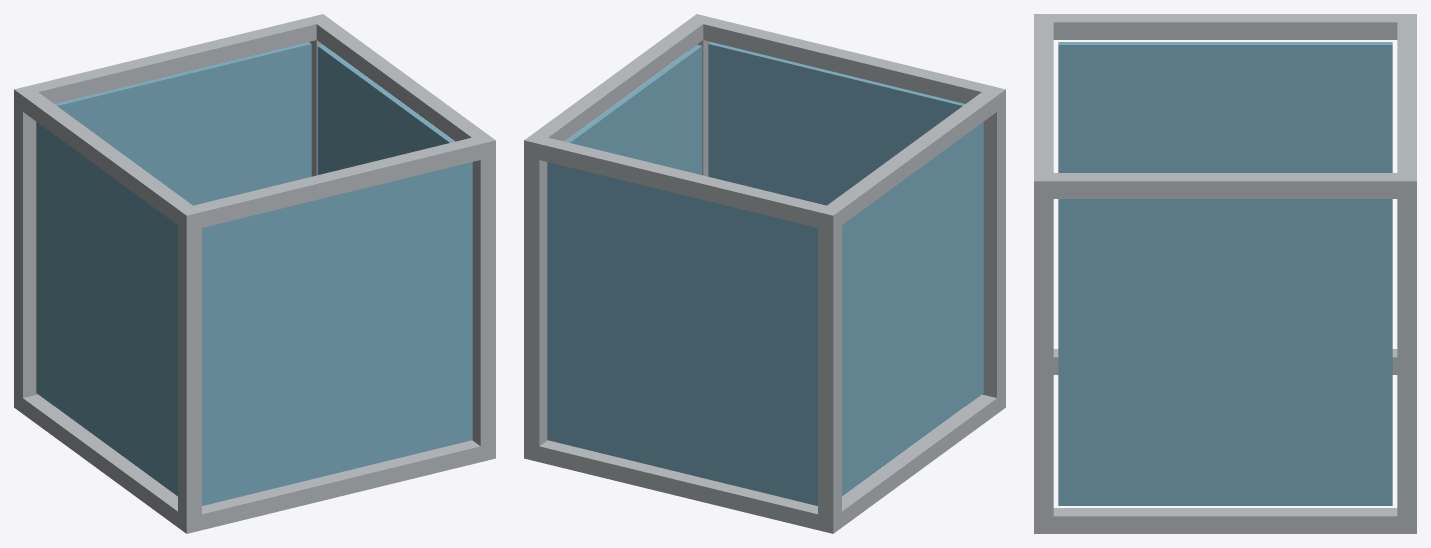
File: 47_L77_PrecisionMegasonicCleaningModule.glb
3 views of the same model, side by side, from view 1: azimuth 30°, elevation 25°; view 2: azimuth 150°, elevation 25°; view 3: azimuth 270°, elevation 25° (orthographic). The views are drawn at different scales.
Parts seen in each view (by area): view 1: PrecisionMegasonicCleaningModule_Node_0013, PrecisionMegasonicCleaningModule_Node_0014, PrecisionMegasonicCleaningModule_Node_0012, PrecisionMegasonicCleaningModule_Node_0015, PrecisionMegasonicCleaningModule_Node_0001, PrecisionMegasonicCleaningModule_Node_0009, PrecisionMegasonicCleaningModule_Node_0003, PrecisionMegasonicCleaningModule_Node_0008, PrecisionMegasonicCleaningModule_Node_0005, PrecisionMegasonicCleaningModule_Node_0000, PrecisionMegasonicCleaningModule_Node_0010, PrecisionMegasonicCleaningModule_Node_0006 (+2 smaller); view 2: PrecisionMegasonicCleaningModule_Node_0012, PrecisionMegasonicCleaningModule_Node_0014, PrecisionMegasonicCleaningModule_Node_0013, PrecisionMegasonicCleaningModule_Node_0015, PrecisionMegasonicCleaningModule_Node_0000, PrecisionMegasonicCleaningModule_Node_0008, PrecisionMegasonicCleaningModule_Node_0002, PrecisionMegasonicCleaningModule_Node_0004, PrecisionMegasonicCleaningModule_Node_0009, PrecisionMegasonicCleaningModule_Node_0001, PrecisionMegasonicCleaningModule_Node_0010, PrecisionMegasonicCleaningModule_Node_0006 (+2 smaller); view 3: PrecisionMegasonicCleaningModule_Node_0015, PrecisionMegasonicCleaningModule_Node_0014, PrecisionMegasonicCleaningModule_Node_0011, PrecisionMegasonicCleaningModule_Node_0007, PrecisionMegasonicCleaningModule_Node_0010, PrecisionMegasonicCleaningModule_Node_0002, PrecisionMegasonicCleaningModule_Node_0003, PrecisionMegasonicCleaningModule_Node_0008, PrecisionMegasonicCleaningModule_Node_0009.
Boxes of the visible parts, box(x1,y1,x2,y2) form: PrecisionMegasonicCleaningModule_Node_0013: box(202, 162, 472, 505); PrecisionMegasonicCleaningModule_Node_0014: box(36, 122, 177, 496); PrecisionMegasonicCleaningModule_Node_0012: box(55, 42, 311, 205); PrecisionMegasonicCleaningModule_Node_0015: box(317, 44, 454, 174); PrecisionMegasonicCleaningModule_Node_0001: box(178, 207, 201, 533); PrecisionMegasonicCleaningModule_Node_0009: box(178, 134, 495, 230); PrecisionMegasonicCleaningModule_Node_0003: box(472, 134, 495, 461); PrecisionMegasonicCleaningModule_Node_0008: box(14, 14, 329, 110); PrecisionMegasonicCleaningModule_Node_0005: box(180, 440, 495, 533); PrecisionMegasonicCleaningModule_Node_0000: box(14, 88, 37, 413); PrecisionMegasonicCleaningModule_Node_0010: box(14, 89, 201, 229); PrecisionMegasonicCleaningModule_Node_0006: box(14, 393, 201, 532); PrecisionMegasonicCleaningModule_Node_0012: box(547, 162, 817, 505); PrecisionMegasonicCleaningModule_Node_0014: box(842, 122, 983, 496); PrecisionMegasonicCleaningModule_Node_0013: box(708, 42, 964, 205); PrecisionMegasonicCleaningModule_Node_0015: box(565, 44, 702, 174); PrecisionMegasonicCleaningModule_Node_0000: box(818, 207, 841, 533); PrecisionMegasonicCleaningModule_Node_0008: box(524, 134, 841, 230); PrecisionMegasonicCleaningModule_Node_0002: box(524, 134, 547, 461); PrecisionMegasonicCleaningModule_Node_0004: box(524, 440, 838, 533); PrecisionMegasonicCleaningModule_Node_0009: box(689, 15, 1005, 103); PrecisionMegasonicCleaningModule_Node_0001: box(982, 88, 1005, 408); PrecisionMegasonicCleaningModule_Node_0010: box(819, 90, 1005, 229); PrecisionMegasonicCleaningModule_Node_0006: box(818, 392, 1005, 533); PrecisionMegasonicCleaningModule_Node_0015: box(1058, 199, 1392, 505); PrecisionMegasonicCleaningModule_Node_0014: box(1058, 42, 1392, 172); PrecisionMegasonicCleaningModule_Node_0011: box(1034, 173, 1416, 198); PrecisionMegasonicCleaningModule_Node_0007: box(1034, 508, 1416, 533); PrecisionMegasonicCleaningModule_Node_0010: box(1034, 14, 1416, 39); PrecisionMegasonicCleaningModule_Node_0002: box(1397, 173, 1416, 533); PrecisionMegasonicCleaningModule_Node_0003: box(1034, 173, 1053, 533); PrecisionMegasonicCleaningModule_Node_0008: box(1397, 14, 1416, 198); PrecisionMegasonicCleaningModule_Node_0009: box(1034, 14, 1053, 198).
Bounding box in the file's own units: 1.22 × 1.2 × 1.18.
